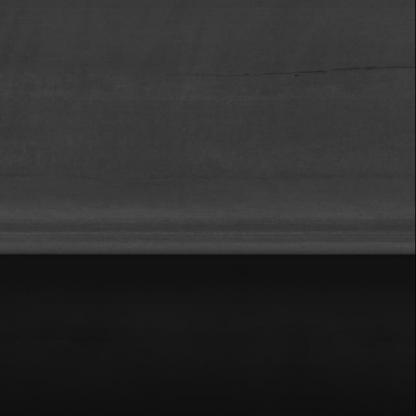inclusion: (144, 61, 414, 81)
